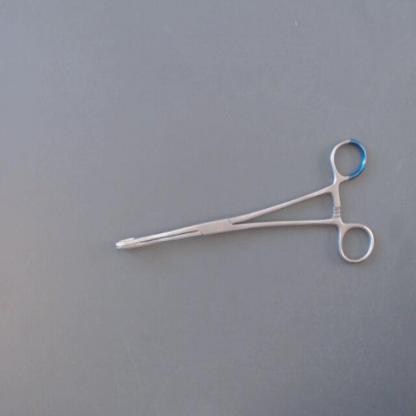Sponge Forceps: (109, 132, 379, 273)
